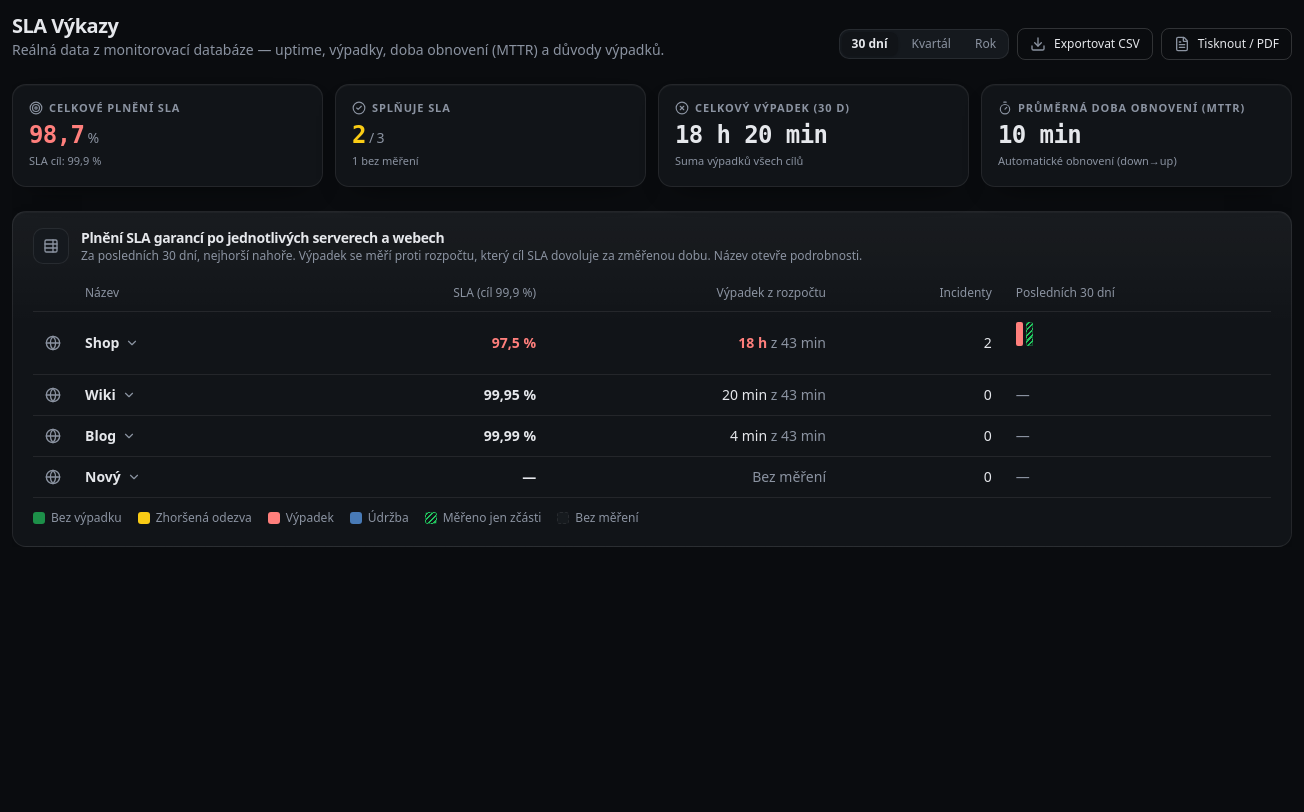
Test case: SLA výkaz jako jedna tabulka (W2-7) › název otevře podrobnosti řádku
The width and height of the screenshot is (1304, 812).
Click the button "Shop" at (112,343), box [85, 333, 140, 353]
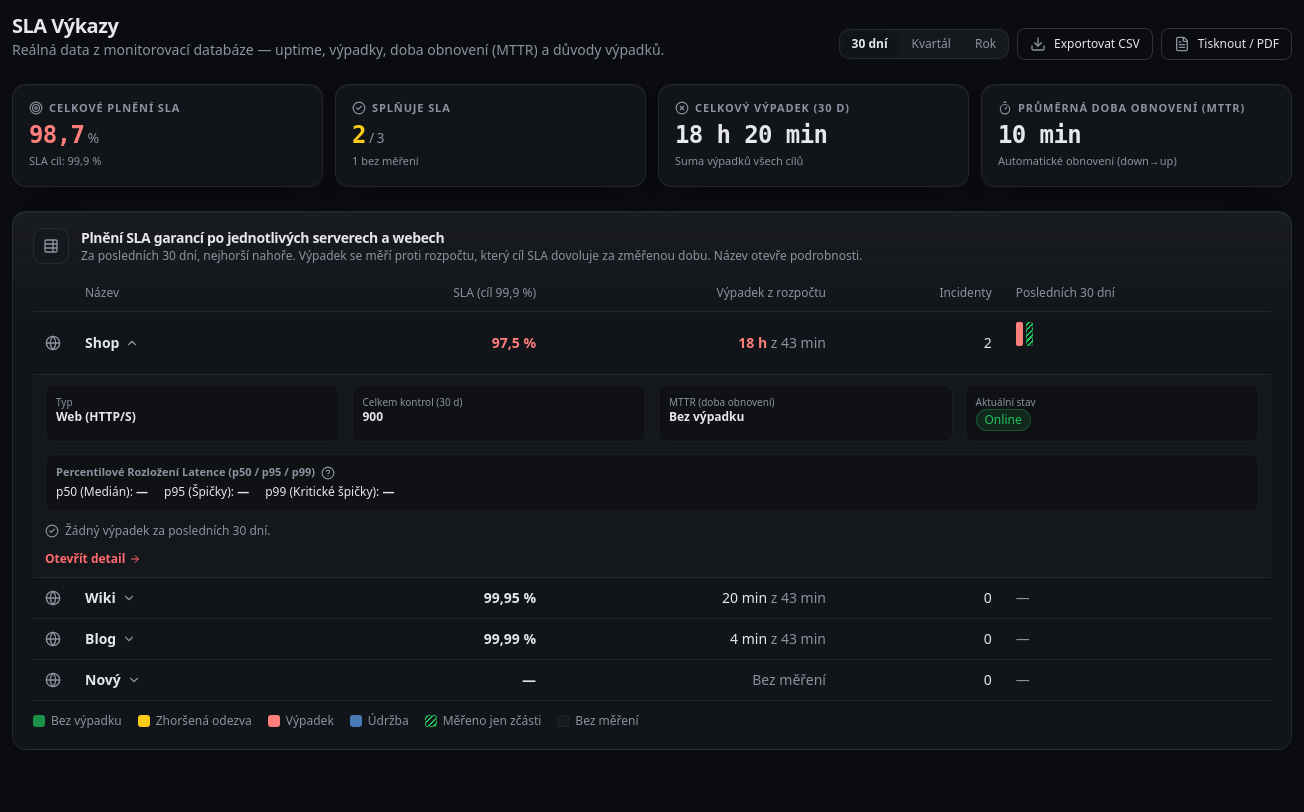
Result: the button "Shop" is expanded at [85, 333, 140, 353]
